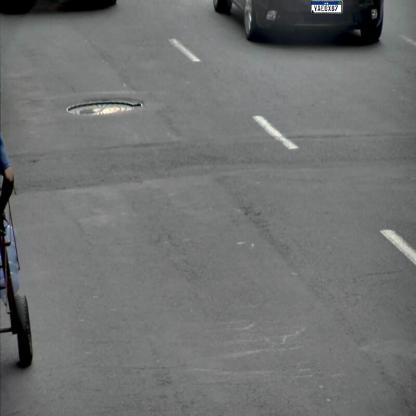PlacaM: (311, 1, 342, 13)
